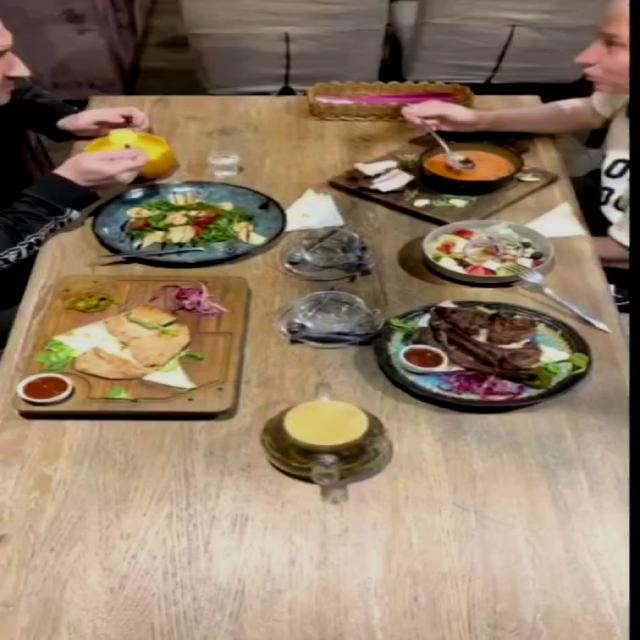meat: (13, 277, 250, 418), (371, 300, 591, 407)
salad: (88, 181, 284, 263), (421, 219, 556, 284)
soup: (326, 143, 558, 226), (84, 129, 176, 179)
tea: (246, 378, 409, 498)
